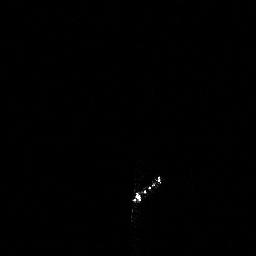ship: (128, 174, 165, 224)
